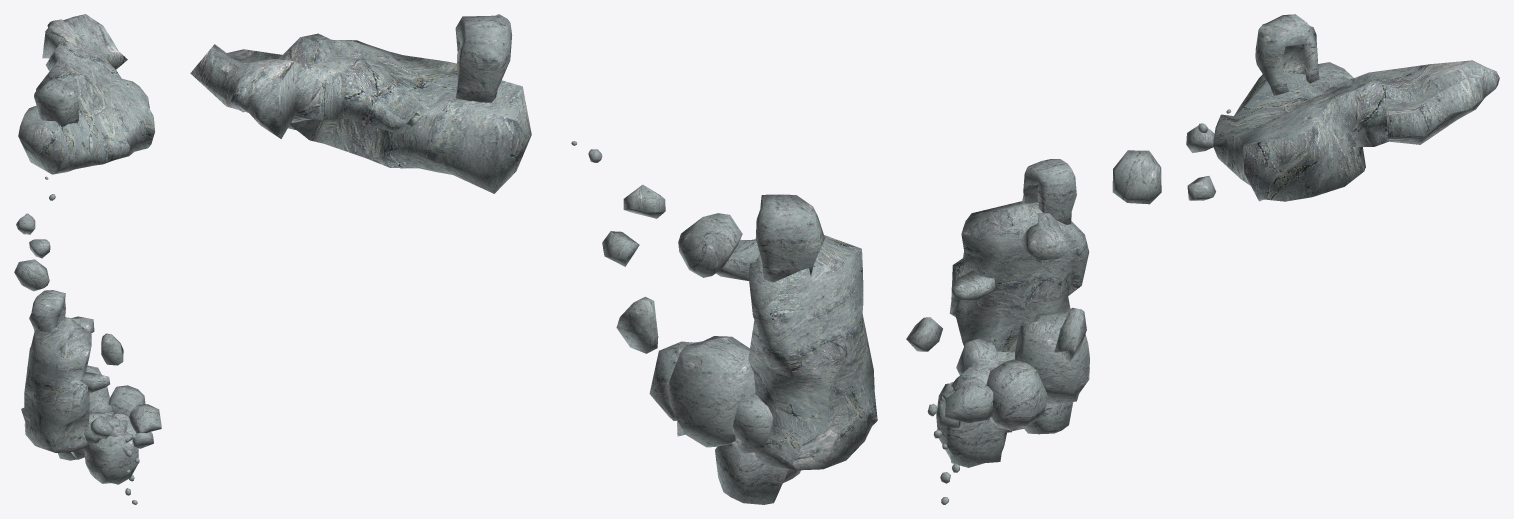
Rendered from RockyTerrainDemo.fbx.
3 renders of one model, left to right at view 1: azimuth 30°, elevation 25°; view 2: azimuth 150°, elevation 25°; view 3: azimuth 270°, elevation 25°, orthographic. The views are drawn at different scales.
Parts seen in each view (by area): view 1: Base, Big Rock, Rock.008, Rock House.001, Rock House, Deco.002, Rock.002, Rock.001, Deco, Rock.003, Ancla Rock, Deco.001 (+7 smaller); view 2: Base, Big Rock, Rock.003, Rock House, Rock House.001, Rock.009, Deco.002, Rock.010, Deco, Rock.002, Ancla Rock.001, Deco.003 (+1 smaller); view 3: Base, Big Rock, Rock.003, Rock House.001, Rock.002, Rock.008, Rock House, Deco.002, Rock.001, Ancla Rock.001, Deco, Rock.009 (+3 smaller).
Boxes of the visible parts, x1,y1,x2,y2 form: Base: (18, 14, 154, 174); Big Rock: (21, 319, 91, 452); Rock.008: (83, 435, 138, 484); Rock House.001: (34, 77, 78, 126); Rock House: (29, 290, 65, 333); Deco.002: (14, 259, 49, 291); Rock.002: (108, 385, 145, 417); Rock.001: (129, 404, 161, 433); Deco: (101, 333, 123, 365); Rock.003: (86, 365, 112, 413); Ancla Rock: (81, 372, 109, 392); Deco.001: (90, 415, 113, 439); Base: (190, 33, 531, 193); Big Rock: (748, 235, 877, 470); Rock.003: (669, 336, 755, 447); Rock House: (755, 194, 824, 282); Rock House.001: (455, 14, 512, 102); Rock.009: (715, 443, 788, 504); Deco.002: (678, 213, 742, 277); Rock.010: (731, 395, 773, 453); Deco: (616, 296, 658, 353); Rock.002: (649, 341, 696, 420); Ancla Rock.001: (716, 239, 759, 280); Deco.003: (623, 184, 665, 218); Base: (1213, 60, 1499, 201); Big Rock: (949, 201, 1089, 352); Rock.003: (1015, 311, 1089, 403); Rock House.001: (1255, 14, 1319, 95); Rock.002: (986, 359, 1048, 430); Rock.008: (936, 382, 1012, 467); Rock House: (1022, 159, 1076, 224); Deco.002: (1112, 150, 1161, 204); Rock.001: (945, 382, 993, 422); Ancla Rock.001: (1019, 212, 1068, 260); Deco: (1054, 307, 1086, 361); Rock.009: (1024, 402, 1073, 434).
Bounding box in the file's own units: 3924 × 5839 × 6079.
